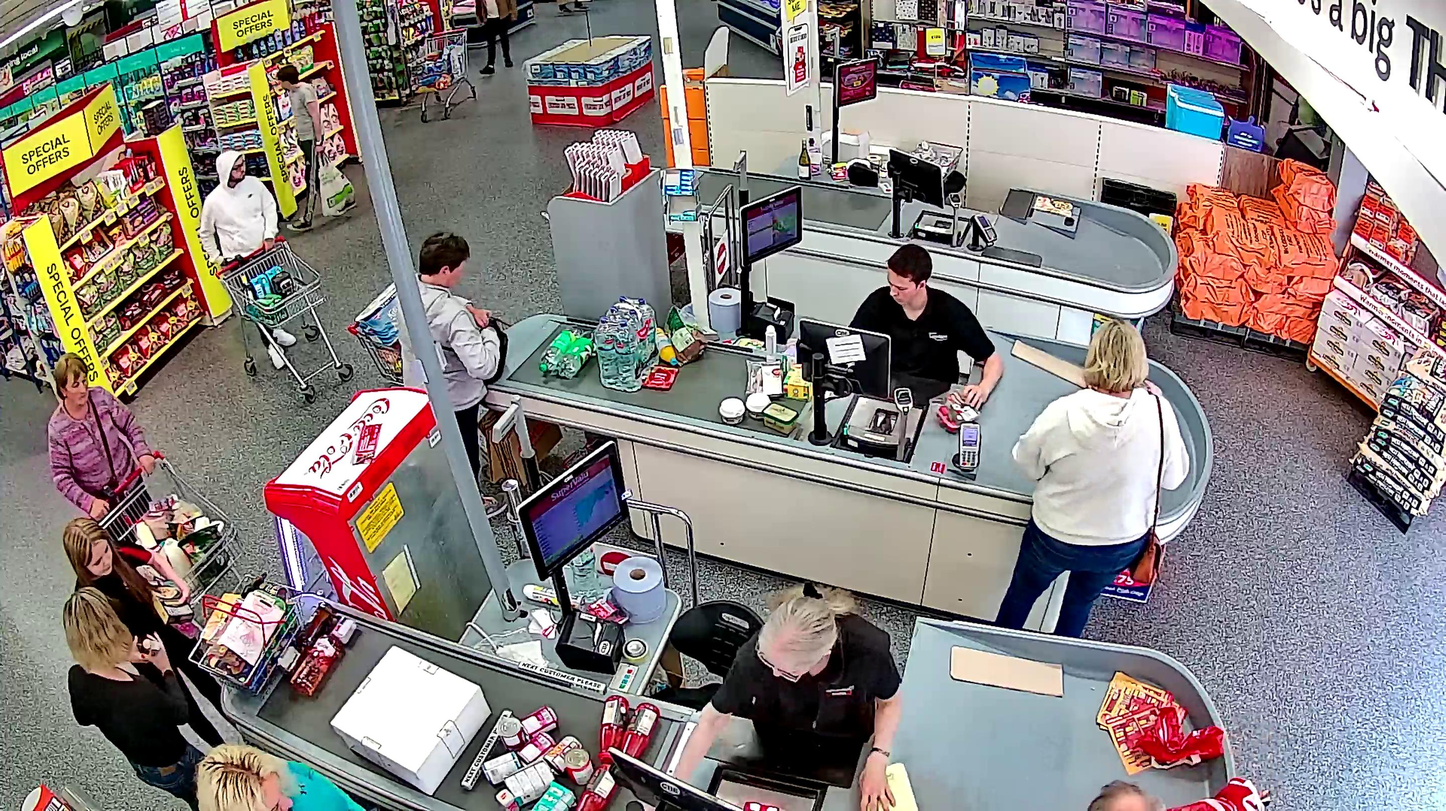carrying-item: (138, 565, 197, 637)
filled-shopping-bags: (316, 161, 356, 216)
filled-trolly: (92, 449, 244, 602), (223, 234, 355, 401)
occupied-checkout-counter: (514, 437, 924, 811), (732, 176, 995, 484)
person: (63, 518, 235, 746), (200, 151, 296, 368), (49, 351, 155, 519), (276, 65, 324, 234)
person-with-carrying-item: (62, 517, 234, 746)
person-with-filled-basket-trolly: (50, 351, 244, 598), (200, 150, 355, 400)
person-with-filled-shopping-bag-s-: (276, 64, 357, 231)
vacant-checkout-counter: (824, 52, 1031, 258)
